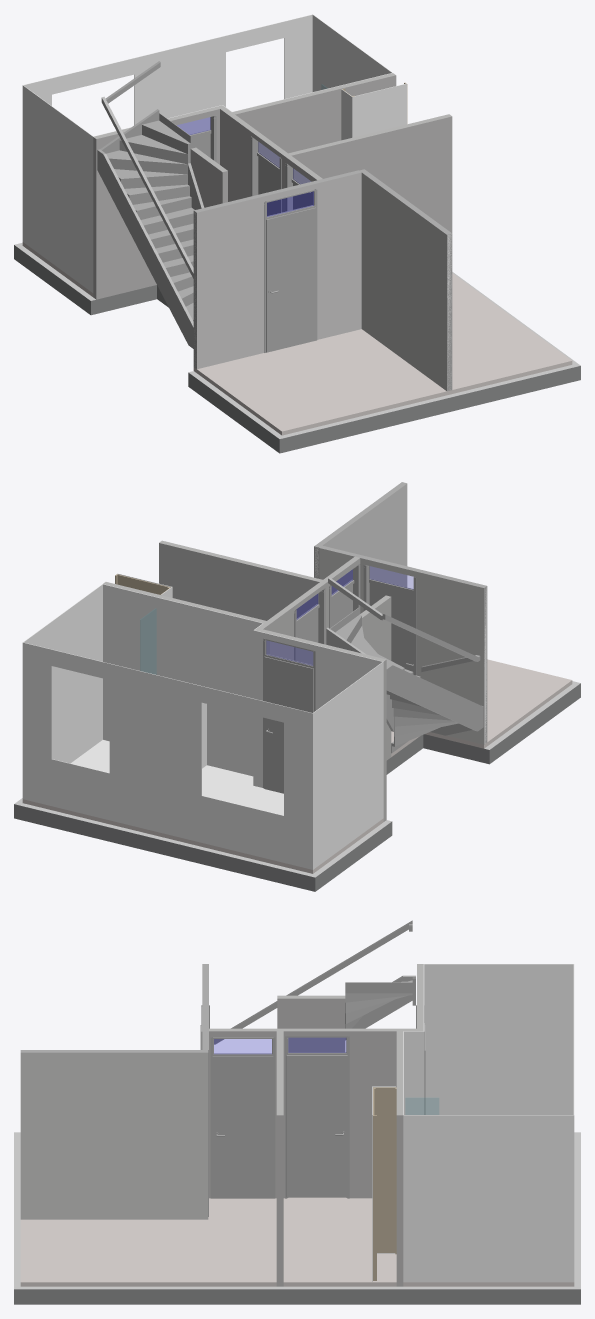
3 views of the same model, one above another, from view 1: azimuth 30°, elevation 25°; view 2: azimuth 150°, elevation 25°; view 3: azimuth 270°, elevation 25° (orthographic). The views are drawn at different scales.
Visible parts, largest first — view 1: [3323724]43_zandcementvloer_70, [3323738]22_MS_12.5_75_12.5_100, [3323742]22_MS_12.5_75_12.5_100, [3323782]Stairs 1, [3323948]42_tegelwand_150x150x10, [3323949]42_tegelwand_150x150x10, [3323900]23_breedplaatvloer_plaatdikte=50_200, [3323740]22_kalkzandsteen_100, [3323745]opdek, [3323734]22_kalkzandsteen_100, [3323846]22_kalkzandsteen_100, [3323732]22_kalkzandsteen_100 (+9 smaller); view 2: [3323948]42_tegelwand_150x150x10, [3323946]42_tegelwand_150x150x10, [3323949]42_tegelwand_150x150x10, [3323900]23_breedplaatvloer_plaatdikte=50_200, [3323738]22_MS_12.5_75_12.5_100, [3323947]42_tegelwand_150x150x10, [3323740]22_kalkzandsteen_100, [3323782]Stairs 1, [3323724]43_zandcementvloer_70, [3323742]22_MS_12.5_75_12.5_100, [3323950]42_tegelwand_150x150x10, [3323779]43_Tegelvloer_150x150x20 (+15 smaller); view 3: [3323742]22_MS_12.5_75_12.5_100, [3323947]42_tegelwand_150x150x10, [3323724]43_zandcementvloer_70, [3323949]42_tegelwand_150x150x10, [3323900]23_breedplaatvloer_plaatdikte=50_200, [3323747]opdek, [3323749]opdek, [3323732]22_kalkzandsteen_100, [3323850]2-zijdig_2700mm, [3323736]22_kalkzandsteen_100, [3323782]Stairs 1, [3323746]32.31_Svedex_Match_BO1_2315_880_2650 (+7 smaller).
Part boxes in pixels (x1=…): [3323724]43_zandcementvloer_70: x1=22, y1=242, x2=572, y2=435; [3323738]22_MS_12.5_75_12.5_100: x1=193, y1=170, x2=361, y2=369; [3323742]22_MS_12.5_75_12.5_100: x1=359, y1=169, x2=452, y2=391; [3323782]Stairs 1: x1=97, y1=109, x2=204, y2=348; [3323948]42_tegelwand_150x150x10: x1=22, y1=14, x2=312, y2=240; [3323949]42_tegelwand_150x150x10: x1=23, y1=85, x2=93, y2=292; [3323900]23_breedplaatvloer_plaatdikte=50_200: x1=14, y1=242, x2=580, y2=453; [3323740]22_kalkzandsteen_100: x1=288, y1=114, x2=452, y2=232; [3323745]opdek: x1=266, y1=207, x2=315, y2=352; [3323734]22_kalkzandsteen_100: x1=93, y1=105, x2=224, y2=299; [3323846]22_kalkzandsteen_100: x1=232, y1=73, x2=396, y2=166; [3323732]22_kalkzandsteen_100: x1=220, y1=107, x2=322, y2=212; [3323948]42_tegelwand_150x150x10: x1=23, y1=642, x2=313, y2=869; [3323946]42_tegelwand_150x150x10: x1=102, y1=584, x2=262, y2=776; [3323949]42_tegelwand_150x150x10: x1=313, y1=661, x2=383, y2=868; [3323900]23_breedplaatvloer_plaatdikte=50_200: x1=14, y1=681, x2=580, y2=891; [3323738]22_MS_12.5_75_12.5_100: x1=319, y1=545, x2=487, y2=744; [3323947]42_tegelwand_150x150x10: x1=22, y1=584, x2=102, y2=797; [3323740]22_kalkzandsteen_100: x1=159, y1=540, x2=322, y2=620; [3323782]Stairs 1: x1=326, y1=607, x2=483, y2=753; [3323724]43_zandcementvloer_70: x1=22, y1=659, x2=572, y2=873; [3323742]22_MS_12.5_75_12.5_100: x1=314, y1=482, x2=407, y2=587; [3323950]42_tegelwand_150x150x10: x1=253, y1=630, x2=382, y2=787; [3323779]43_Tegelvloer_150x150x20: x1=22, y1=740, x2=383, y2=869; [3323742]22_MS_12.5_75_12.5_100: x1=20, y1=1050, x2=208, y2=1219; [3323947]42_tegelwand_150x150x10: x1=404, y1=1115, x2=574, y2=1282; [3323724]43_zandcementvloer_70: x1=20, y1=1197, x2=574, y2=1286; [3323949]42_tegelwand_150x150x10: x1=424, y1=964, x2=573, y2=1114; [3323900]23_breedplaatvloer_plaatdikte=50_200: x1=14, y1=1132, x2=580, y2=1304; [3323747]opdek: x1=212, y1=1056, x2=273, y2=1198; [3323749]opdek: x1=286, y1=1055, x2=347, y2=1197; [3323732]22_kalkzandsteen_100: x1=209, y1=1028, x2=416, y2=1198; [3323850]2-zijdig_2700mm: x1=373, y1=1087, x2=396, y2=1280; [3323736]22_kalkzandsteen_100: x1=277, y1=995, x2=345, y2=1052; [3323782]Stairs 1: x1=345, y1=975, x2=415, y2=1040; [3323746]32.31_Svedex_Match_BO1_2315_880_2650: x1=210, y1=1037, x2=275, y2=1198.
Bounding box in the file's own units: 5.5 × 4.18 × 8.4.
